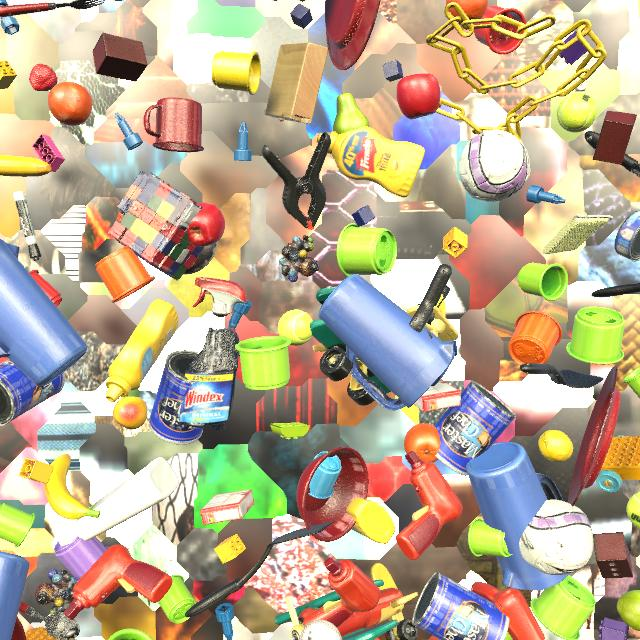ycb_002_master_chef_can: (434, 380, 516, 476), (412, 571, 510, 640), (148, 350, 204, 445), (0, 359, 65, 426)
ycb_006_mustard_bottle: (317, 126, 425, 197), (105, 299, 178, 402), (346, 498, 395, 544)
ycb_007_tuna_fish_can: (614, 211, 640, 262)
ycb_009_gelatin_box: (200, 489, 255, 525), (414, 379, 461, 412)
ycb_011_banana: (44, 454, 100, 520), (0, 155, 51, 177)
ycb_012_strawberry: (29, 64, 58, 91)
ycb_013_apple: (396, 73, 440, 119), (188, 203, 225, 247)
ycb_014_lemon: (538, 430, 573, 462)
ycb_015_peach: (113, 396, 148, 430)
ycb_016_pear: (333, 92, 370, 134), (617, 590, 640, 631)
ycb_017_orange: (48, 81, 93, 126), (404, 423, 440, 463), (446, 0, 488, 25)
